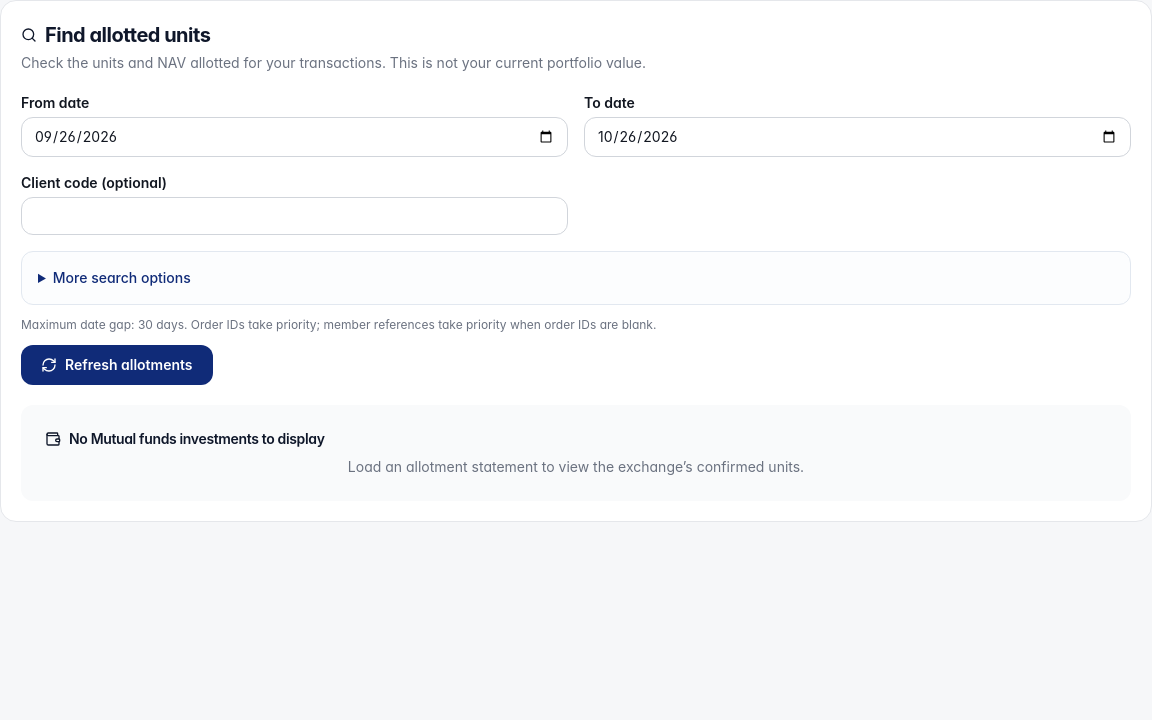
Test: Mutual funds Investments allotments UI › converts date inputs and displays actual units, allotment NAV and amount separately
The width and height of the screenshot is (1152, 720).
Type "2026-10-01" into the date field labelled "From date" at (294, 137), box [21,117,568,157]
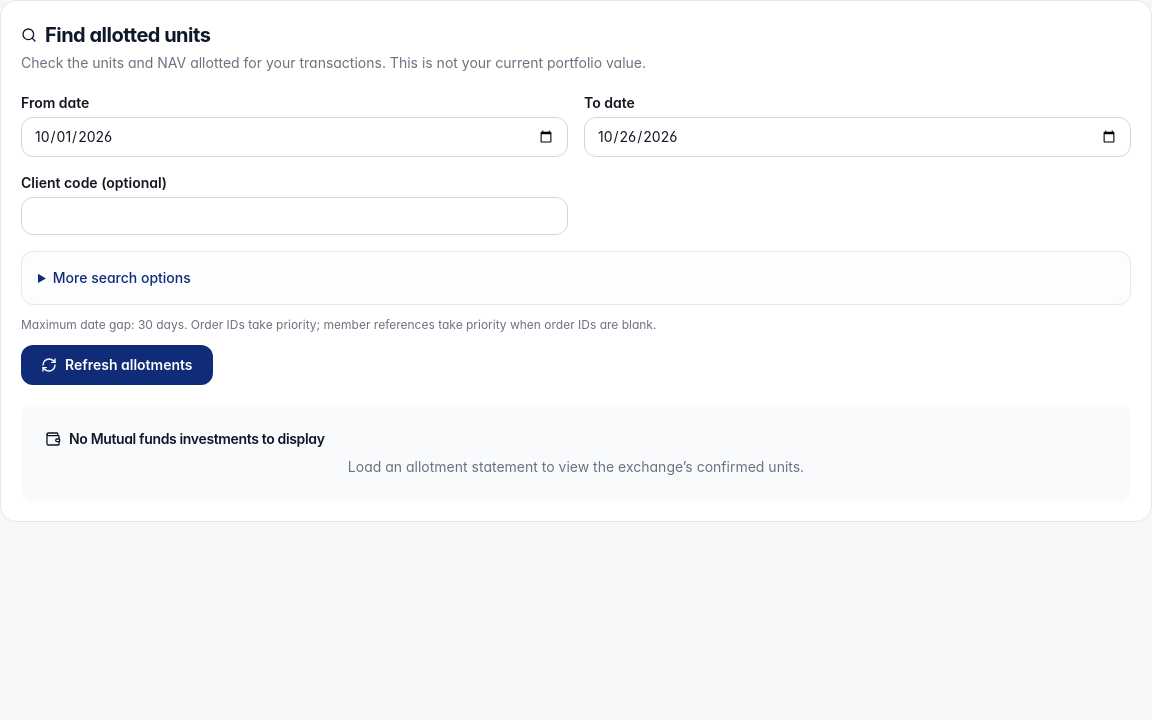
Type "2026-10-15" into the date field labelled "To date" at (858, 137), box [584,117,1131,157]
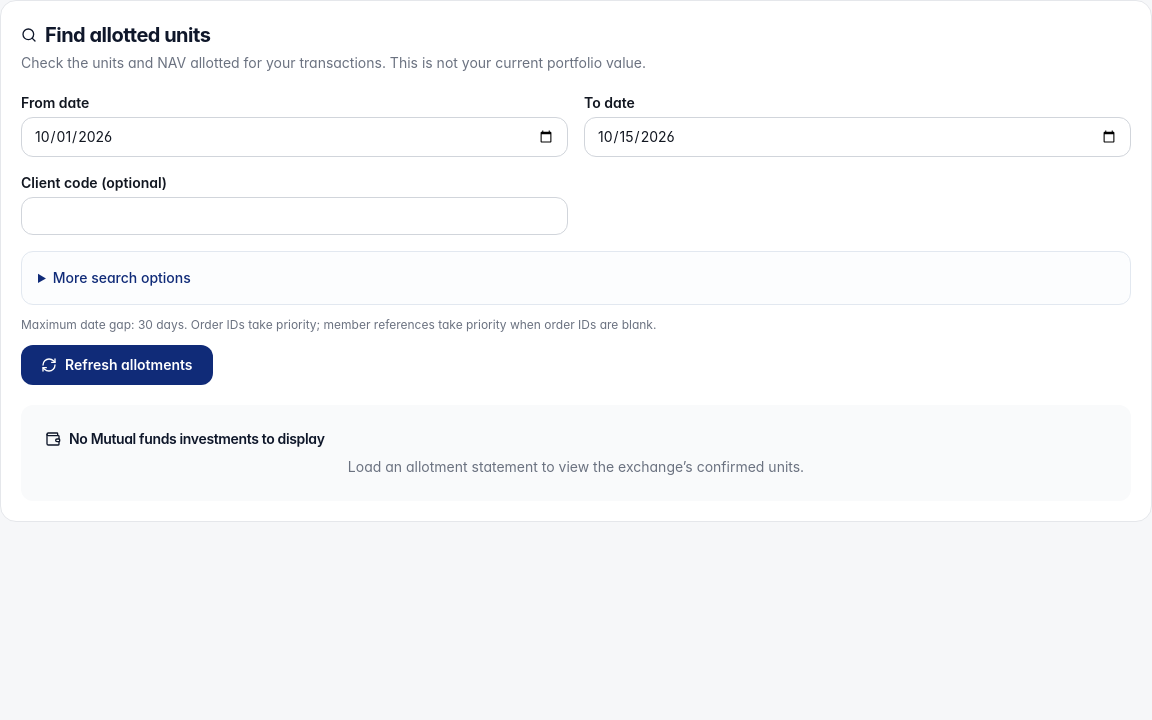
Click the button "Refresh allotments" at (117, 365), box [21,345,212,385]
(page scrolled)
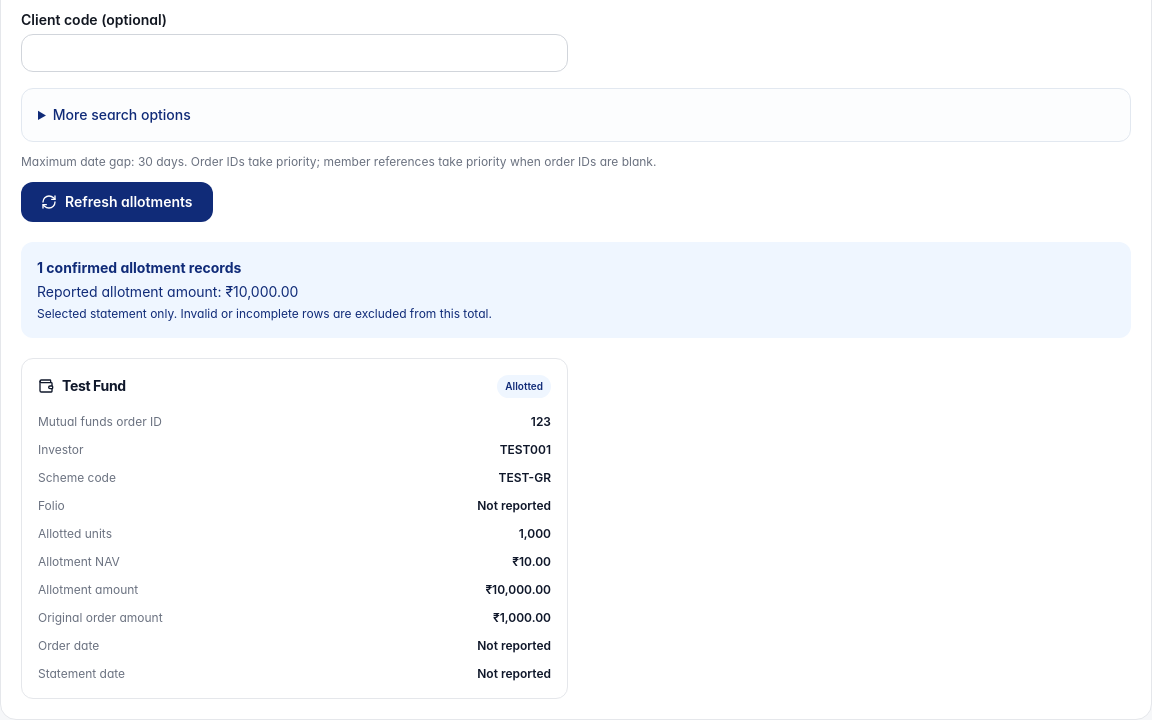
Expected: the heading "Test Fund" is shown, [38,375,126,398]
Expected: the message shows "1 confirmed allotment records", [21,242,1131,338]
Expected: the message shows "₹10,000.00", [225,283,298,300]
